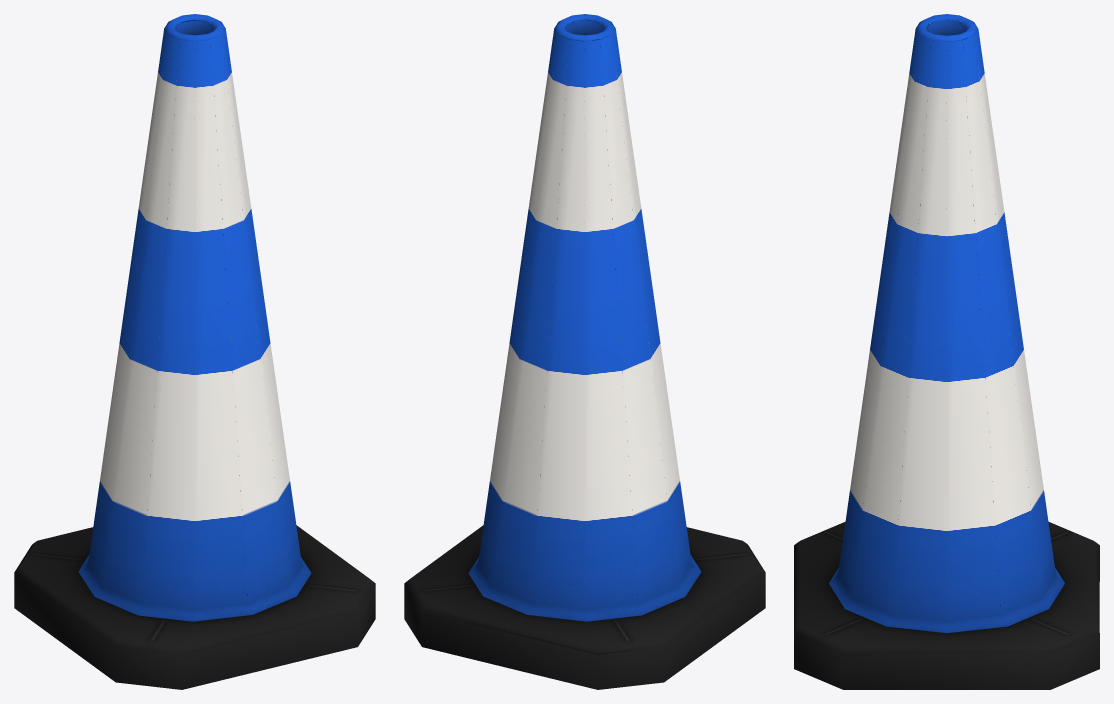
Rendered from construction_cone.dae.
3 views of the same model, side by side, from view 1: azimuth 30°, elevation 25°; view 2: azimuth 150°, elevation 25°; view 3: azimuth 270°, elevation 25° (orthographic).
Parts seen in each view (by area): view 1: Box001; view 2: Box001; view 3: Box001.
Part boxes in pixels (bbox=[...]): Box001: bbox=[14, 14, 375, 689]; Box001: bbox=[404, 14, 765, 689]; Box001: bbox=[794, 14, 1099, 689].
Bounding box in the file's own units: 1.98 × 1.98 × 4.29.
Materials: 1 (1 with a texture image).
